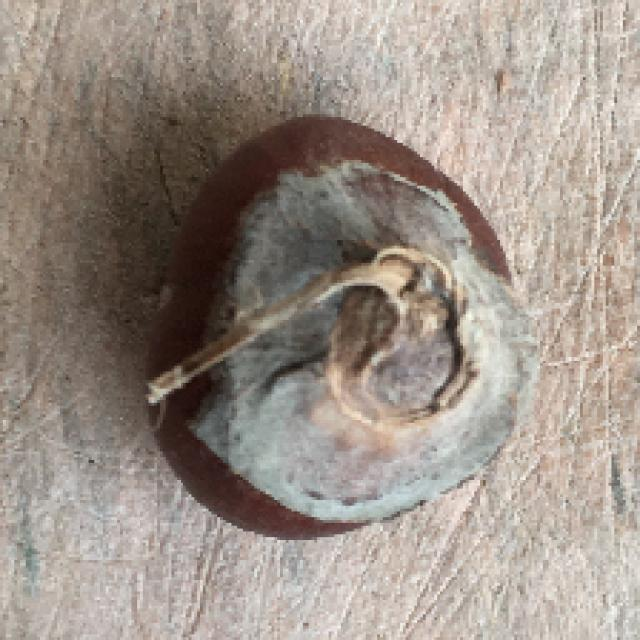damagedHazelnut: (146, 118, 534, 531)
